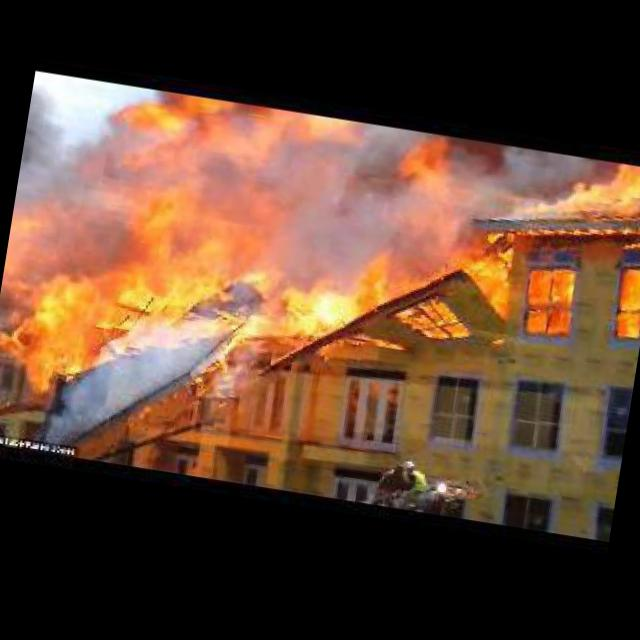fire: (2, 70, 640, 388)
smoke: (48, 300, 230, 468)
